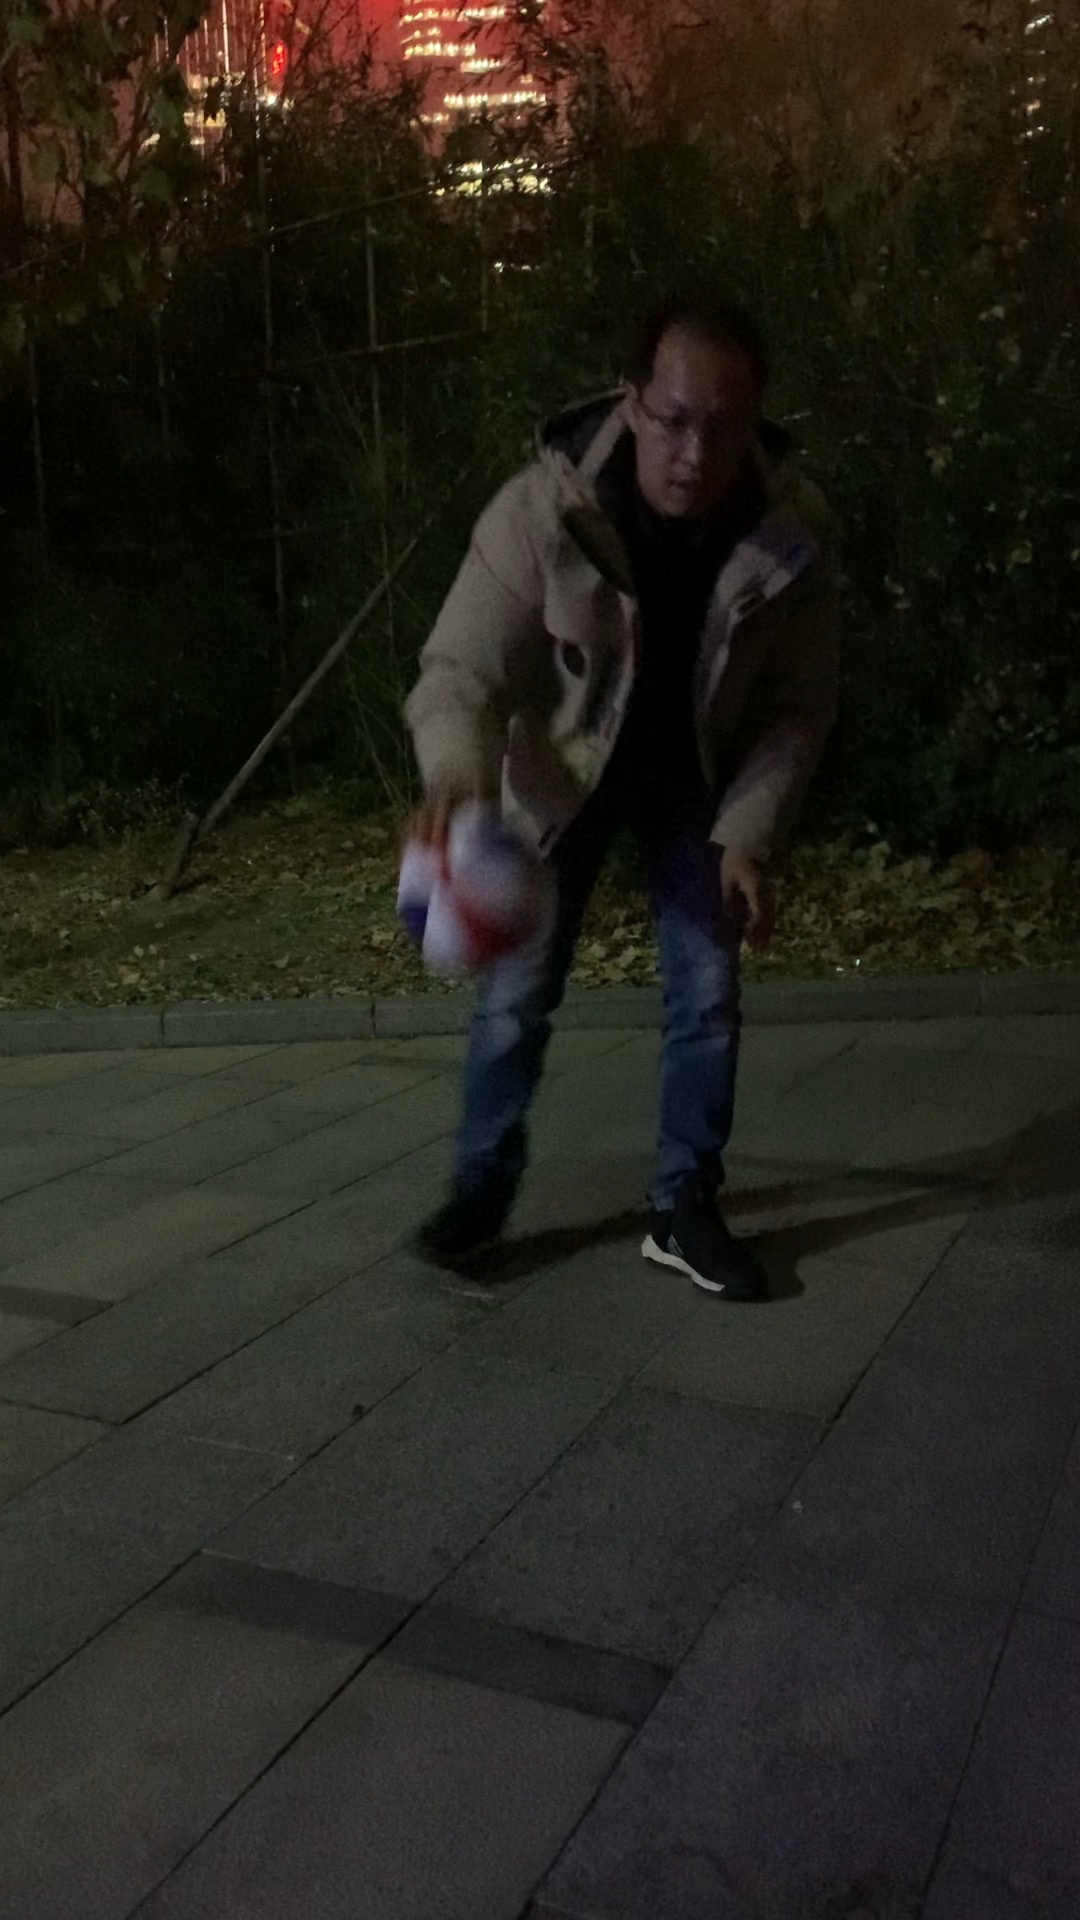ball: (389, 800, 556, 975)
